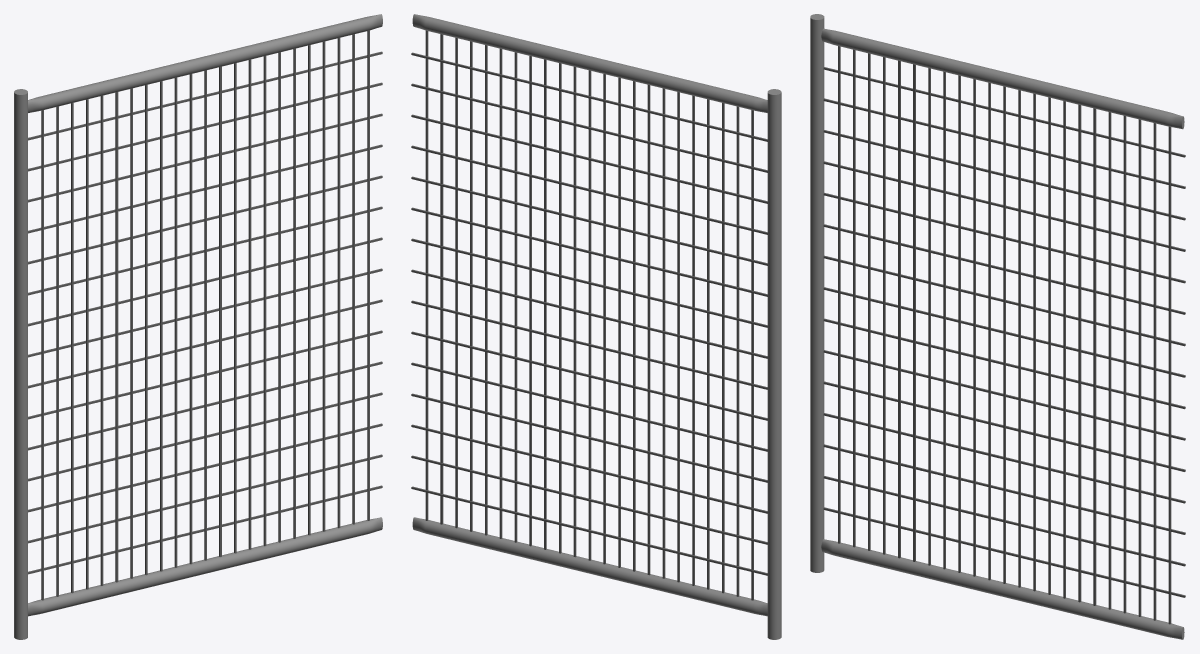
Rendered from FenceTall.fbx.
The picture shows the model from 3 angles, left to right: view 1: azimuth 30°, elevation 25°; view 2: azimuth 150°, elevation 25°; view 3: azimuth 330°, elevation 25°; orthographic projection.
Visible parts, largest first — view 1: Cube; view 2: Cube; view 3: Cube.
Boxes of the visible parts, <box> form: Cube: <box>14,14,382,639</box>; Cube: <box>411,14,781,639</box>; Cube: <box>810,14,1185,639</box>.
Bounding box in the file's own units: 4.9 × 6.93 × 0.1632.
